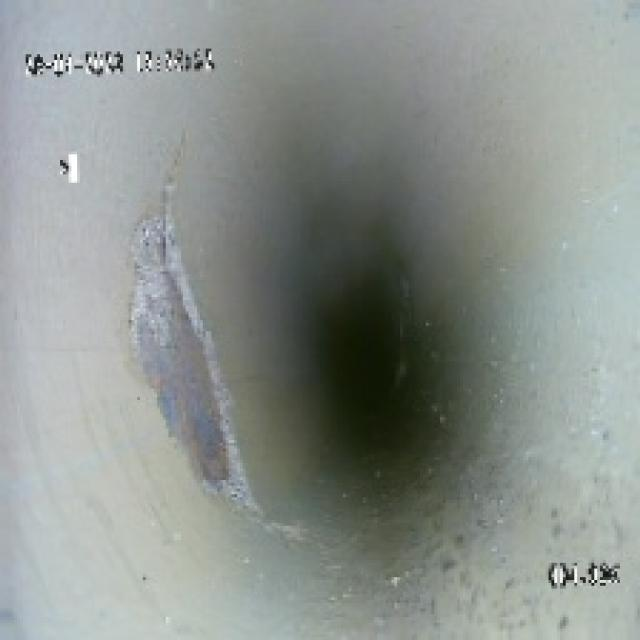pipe_surface_damage: (111, 203, 283, 534)
